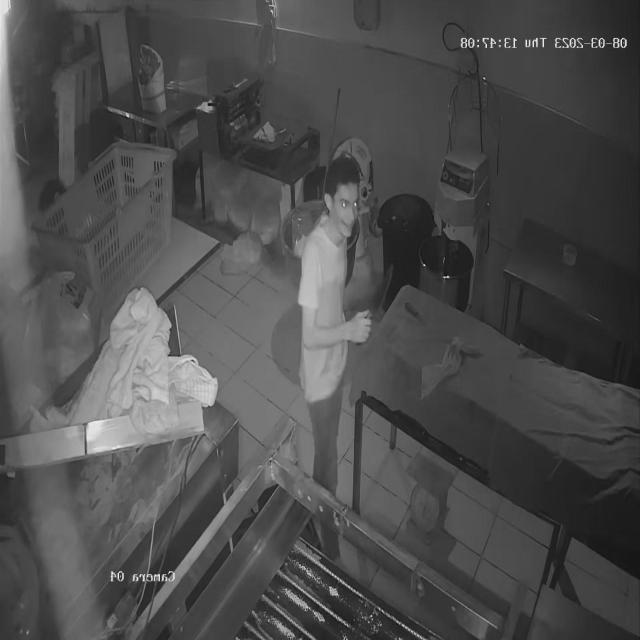Knife: (363, 260, 406, 342)
